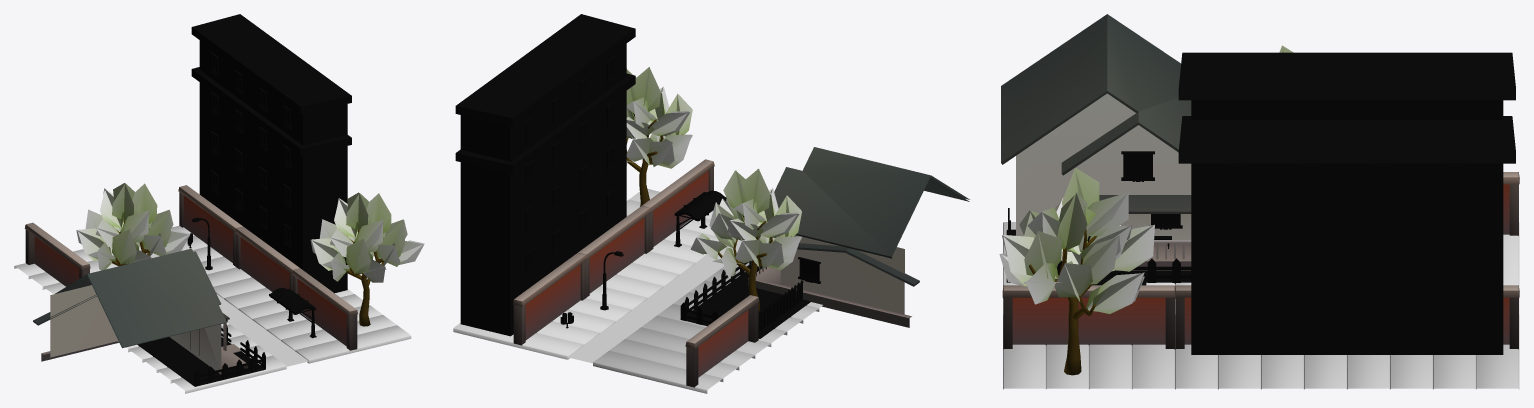
File: SM_ER_module9.fbx
3 renders of one model, left to right at view 1: azimuth 30°, elevation 25°; view 2: azimuth 150°, elevation 25°; view 3: azimuth 270°, elevation 25°, orthographic. The views are drawn at different scales.
Visible parts, largest first — view 1: SM_ER_module9_walls, SM_ER_floor2, SM_ER_floor1, SM_ER_floor; view 2: SM_ER_module9_walls, SM_ER_floor, SM_ER_floor1, SM_ER_floor2; view 3: SM_ER_module9_walls, SM_ER_floor2, SM_ER_floor, SM_ER_floor1.
Part boxes in pixels (left/top/right/bottom): SM_ER_module9_walls: left=24, top=14, right=424, bottom=386; SM_ER_floor2: left=128, top=294, right=411, bottom=393; SM_ER_floor1: left=118, top=267, right=353, bottom=352; SM_ER_floor: left=14, top=225, right=235, bottom=294; SM_ER_module9_walls: left=455, top=14, right=969, bottom=387; SM_ER_floor: left=453, top=298, right=770, bottom=393; SM_ER_floor1: left=586, top=251, right=822, bottom=346; SM_ER_floor2: left=626, top=188, right=749, bottom=272; SM_ER_module9_walls: left=999, top=14, right=1519, bottom=375; SM_ER_floor2: left=1003, top=222, right=1175, bottom=389; SM_ER_floor: left=1347, top=223, right=1519, bottom=389; SM_ER_floor1: left=1175, top=282, right=1346, bottom=389.
Bounding box in the file's own units: 6022 × 3502 × 5437.
